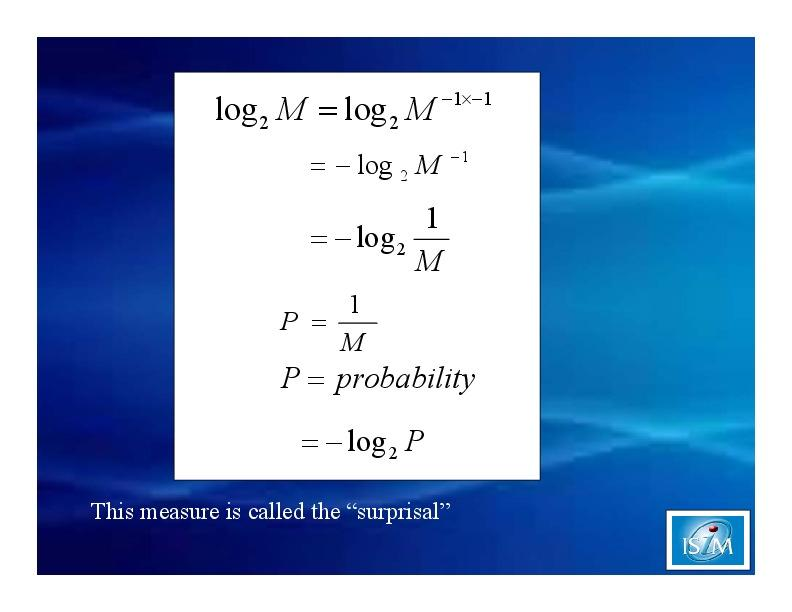paragraph: (88, 52, 632, 537)
